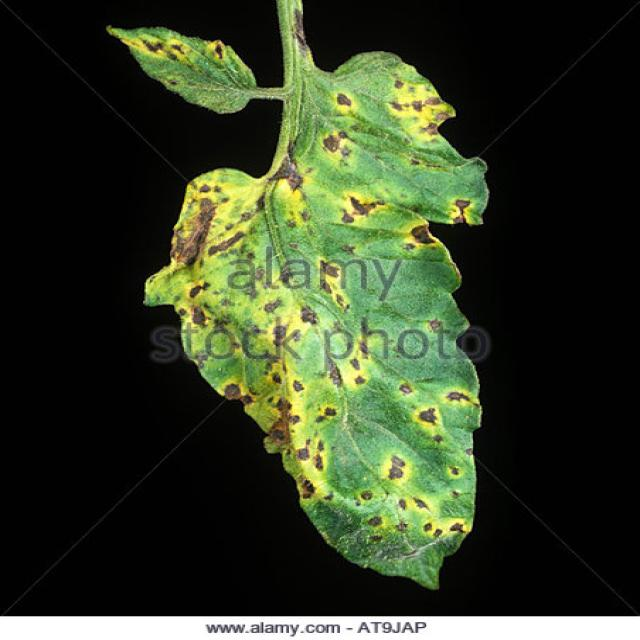Septoria leaf spot: (152, 120, 501, 589)
